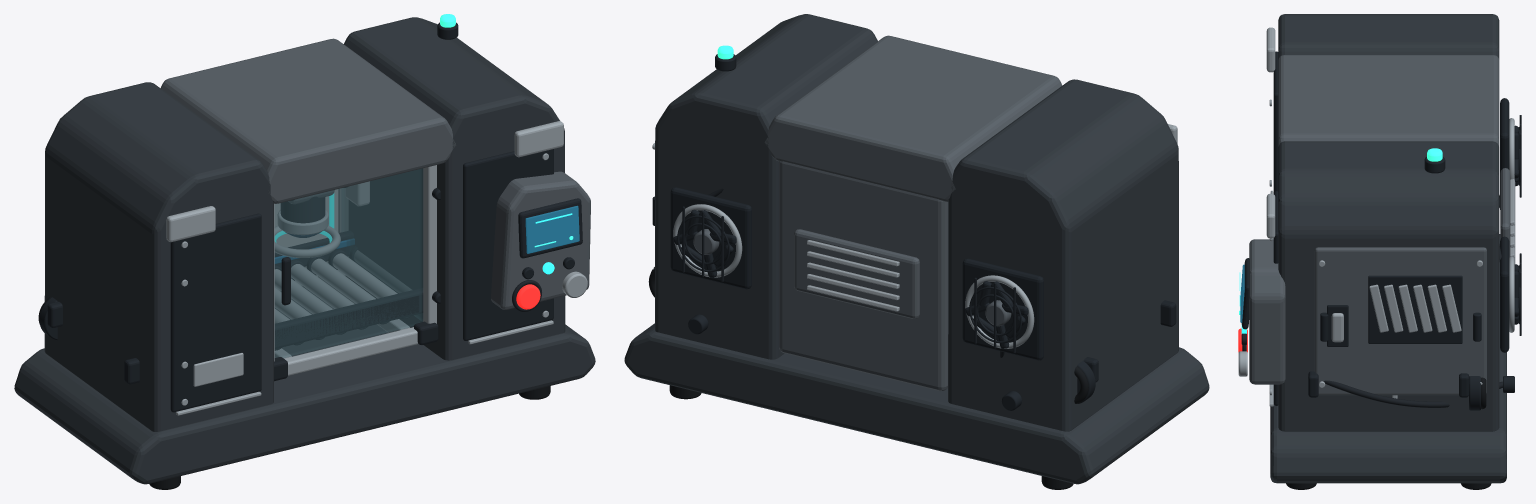
File: precision-inspection-station.glb
3 renders of one model, left to right at view 1: azimuth 30°, elevation 25°; view 2: azimuth 150°, elevation 25°; view 3: azimuth 270°, elevation 25°, orthographic. The views are drawn at different scales.
Visible parts, largest first — view 1: Chassis_LeftTower, Chassis_BasePlinth, Chassis_TopBridge, Chassis_RightTower, Chamber_FrontSafetyGlass, Chassis_LeftInsetPanel, Chassis_RightInsetPanel, Chamber_RightSafetyGlass, Control_Housing, Conveyor_GuideRail_-0.62, Chamber_Sill_-0.71, Chamber_Post_+0.76_-0.71 (+15 smaller); view 2: Chassis_LeftTower, Chassis_RightTower, Chassis_BasePlinth, Chassis_TopBridge, Chassis_RearServiceCabinet, Cooling_CentralDuct, Cooling_FanRecess_0, Cooling_FanRecess_1, Cooling_OuterRing_0, Cooling_OuterRing_1; view 3: Chassis_RightTower, Chassis_TopBridge, Chassis_RightServicePanel, Chassis_BasePlinth, Chassis_LeftTower, Control_Housing, Chassis_RightServicePanelInset, Cooling_FanRecess_1, Cable_ControlBus, Chassis_LeftInsetPanel, Cooling_FanRecess_0, Cooling_CentralDuct (+15 smaller).
Part boxes in pixels (box(x1,y1,x2,y2)): Chassis_LeftTower: box(44, 82, 273, 431); Chassis_BasePlinth: box(14, 287, 595, 484); Chassis_TopBridge: box(160, 38, 455, 203); Chassis_RightTower: box(344, 17, 565, 360); Chamber_FrontSafetyGlass: box(274, 168, 422, 358); Chassis_LeftInsetPanel: box(170, 213, 261, 412); Chassis_RightInsetPanel: box(463, 149, 553, 340); Chamber_RightSafetyGlass: box(341, 168, 423, 321); Control_Housing: box(491, 171, 590, 309); Conveyor_GuideRail_-0.62: box(124, 288, 423, 384); Chamber_Sill_-0.71: box(284, 327, 417, 375); Chamber_Post_+0.76_-0.71: box(423, 165, 436, 323); Chassis_LeftTower: box(948, 79, 1178, 431); Chassis_RightTower: box(655, 14, 877, 359); Chassis_BasePlinth: box(624, 323, 1209, 484); Chassis_TopBridge: box(764, 35, 1062, 201); Chassis_RearServiceCabinet: box(779, 161, 948, 391); Cooling_CentralDuct: box(794, 229, 919, 318); Cooling_FanRecess_0: box(962, 258, 1043, 360); Cooling_FanRecess_1: box(670, 187, 751, 289); Cooling_OuterRing_0: box(965, 275, 1034, 348); Cooling_OuterRing_1: box(673, 204, 742, 277); Chassis_RightTower: box(1278, 141, 1499, 431); Chassis_TopBridge: box(1278, 55, 1499, 146); Chassis_RightServicePanel: box(1314, 247, 1486, 395); Chassis_BasePlinth: box(1270, 234, 1506, 483); Chassis_LeftTower: box(1278, 14, 1499, 59); Control_Housing: box(1249, 239, 1285, 384); Chassis_RightServicePanelInset: box(1368, 275, 1462, 343); Cooling_FanRecess_1: box(1500, 236, 1509, 352); Cable_ControlBus: box(1324, 380, 1502, 407); Chassis_LeftInsetPanel: box(1273, 51, 1278, 193); Cooling_FanRecess_0: box(1500, 98, 1509, 209); Cooling_CentralDuct: box(1500, 168, 1509, 257).
Size of the model in its own units: 4.33 by 2.96 by 2.34.
